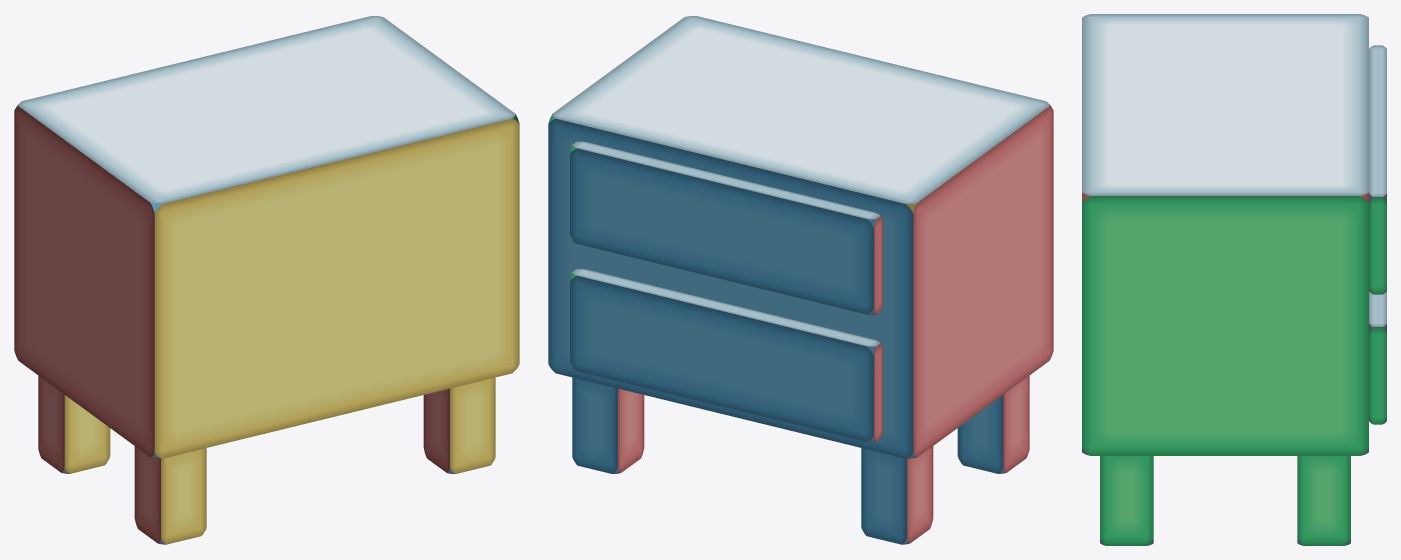
File: nightstand.obj
3 renders of one model, left to right at view 1: azimuth 30°, elevation 25°; view 2: azimuth 150°, elevation 25°; view 3: azimuth 270°, elevation 25°, orthographic. The views are drawn at different scales.
Parts seen in each view (by area): view 1: body, leg; view 2: body, drawer, leg; view 3: body, leg, drawer.
Part boxes in pixels (left/top/right/bottom): body: left=14, top=16, right=519, bottom=458; leg: left=38, top=375, right=495, bottom=544; body: left=548, top=16, right=1053, bottom=458; drawer: left=570, top=141, right=882, bottom=442; leg: left=572, top=375, right=1029, bottom=544; body: left=1082, top=14, right=1368, bottom=455; leg: left=1100, top=456, right=1350, bottom=545; drawer: left=1369, top=45, right=1386, bottom=424.
Bounding box in the file's own units: 0.75 × 0.6875 × 0.5312.
Materials: 1 (1 with a texture image).
